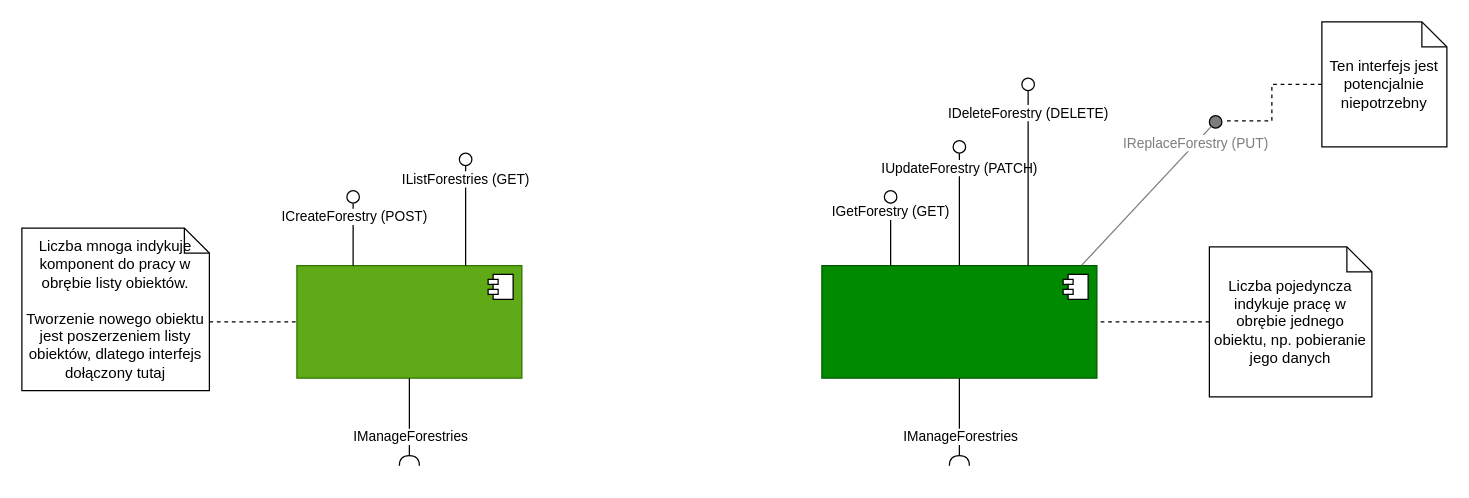
Some shapes in this 1469 by 498 pixel diagram are drawn without their labels. The shapes that lost their labels are listed below. From the top down, each one's box as (x1, y1, x2, y2) in pixels, then its label:
(296, 264, 522, 378): ForestriesAPI
(821, 264, 1097, 378): ForestryAPI
